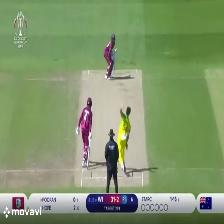batsman: (102, 32, 122, 81)
